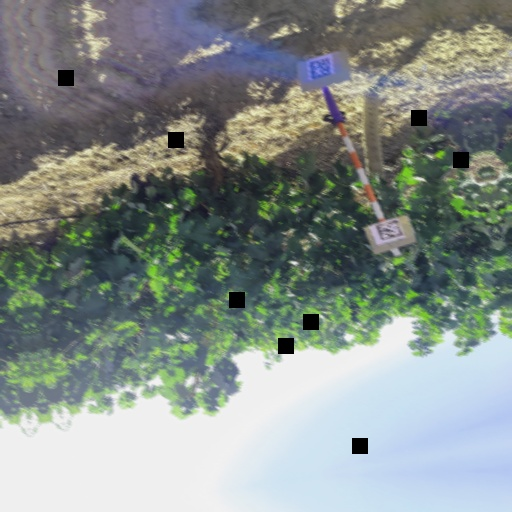QR: (306, 55, 336, 81), (375, 217, 405, 242)
